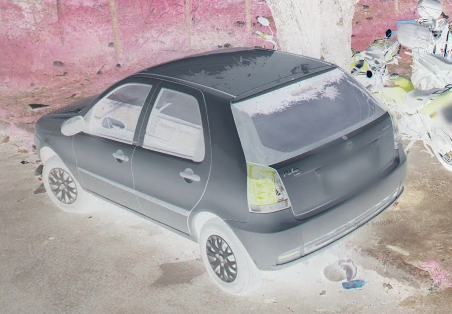car: (32, 48, 412, 294)
